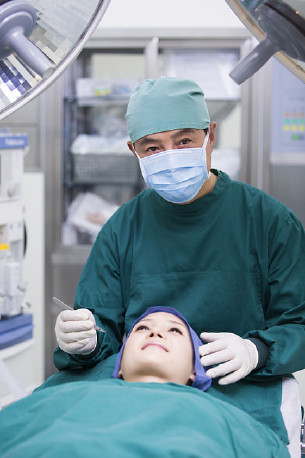face: (123, 316, 187, 379)
face_mask: (138, 126, 207, 203)
